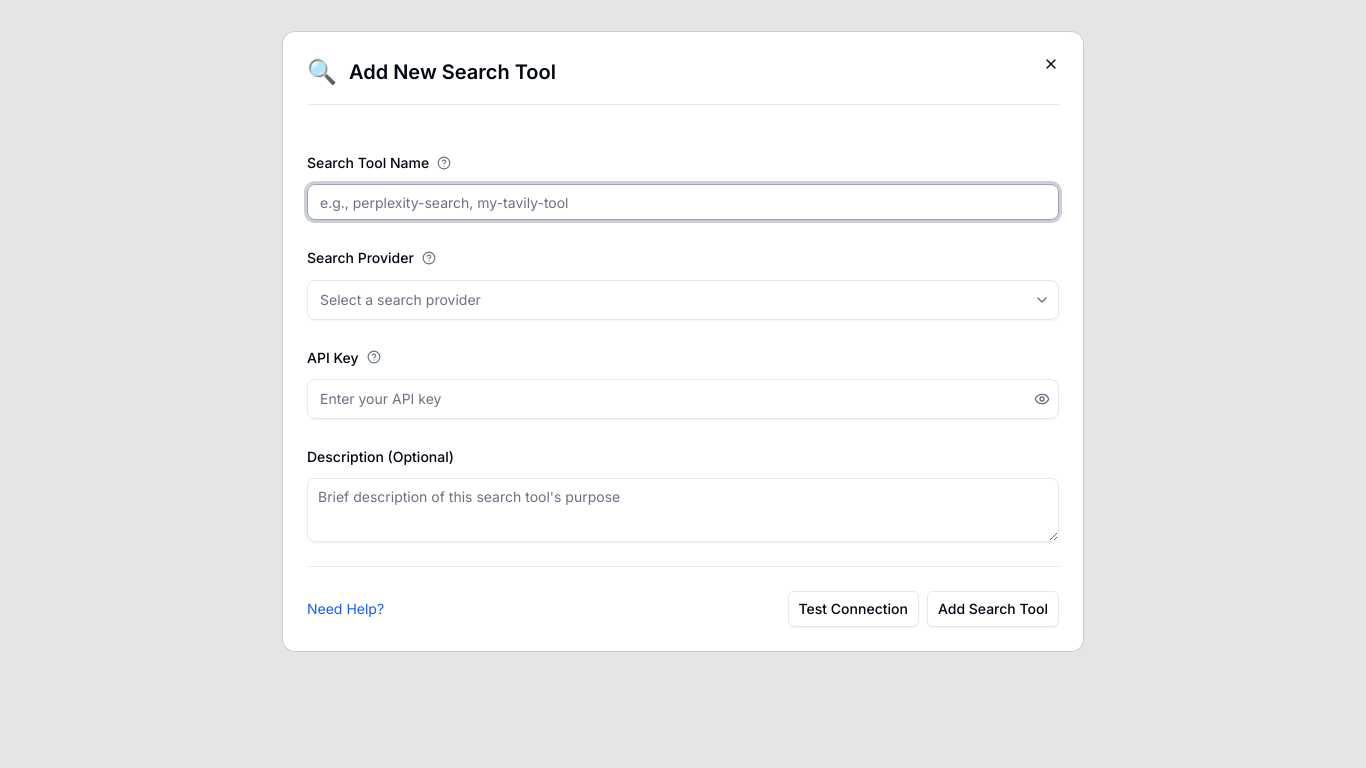
it: CreateSearchTools submit payload › blocks submit and keeps the antd validation messages when required fields are empty
Expected: the field labelled "Search Tool Name" is shown, left=307, top=184, right=1059, bottom=220
Click the button "Add Search Tool" at (993, 609), box left=927, top=591, right=1059, bottom=627
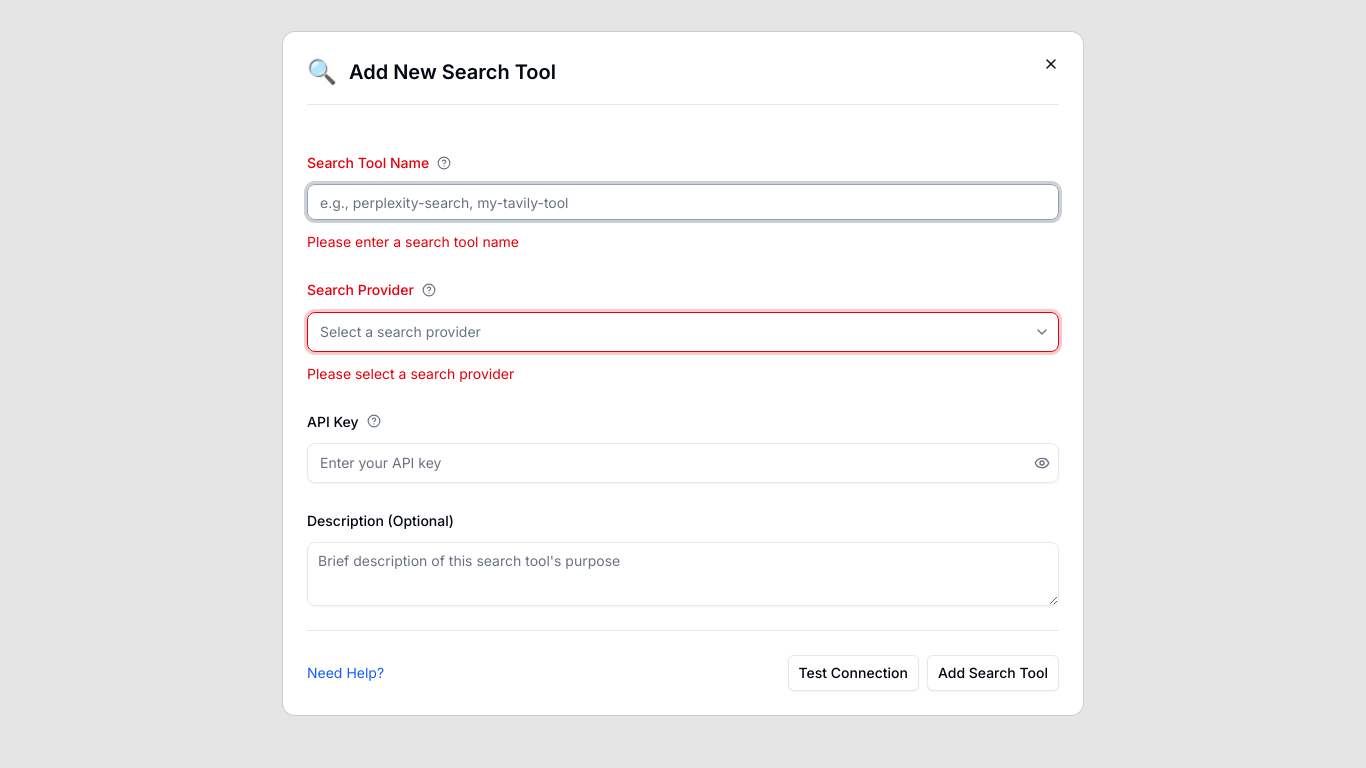
Expected: the text "Please enter a search tool name" is shown, left=307, top=233, right=519, bottom=250
Expected: the text "Please select a search provider" is shown, left=307, top=364, right=514, bottom=382
